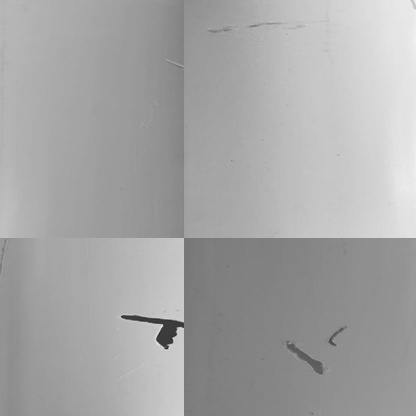kongdong: (120, 310, 181, 350)
sunshang: (281, 314, 360, 387), (164, 55, 197, 73)
